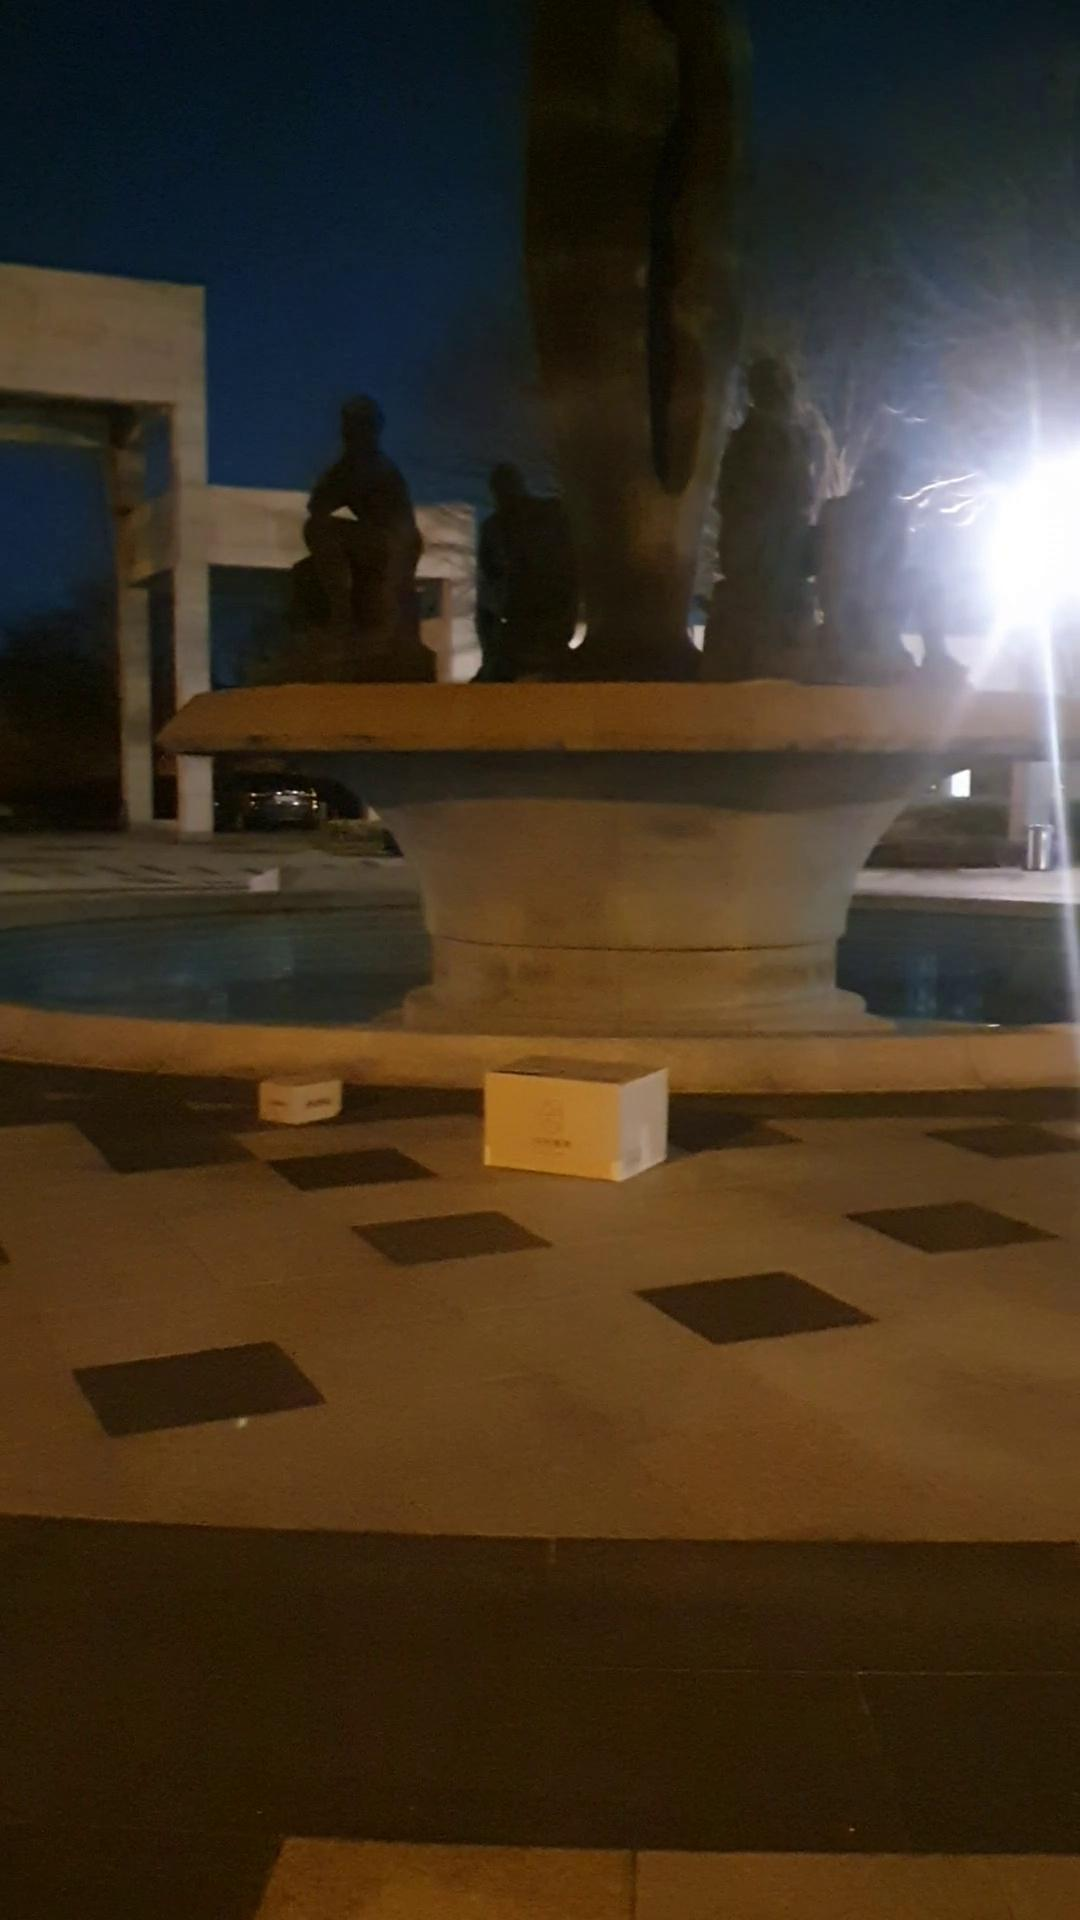Box: (465, 1048, 680, 1203), (243, 1063, 357, 1130)
